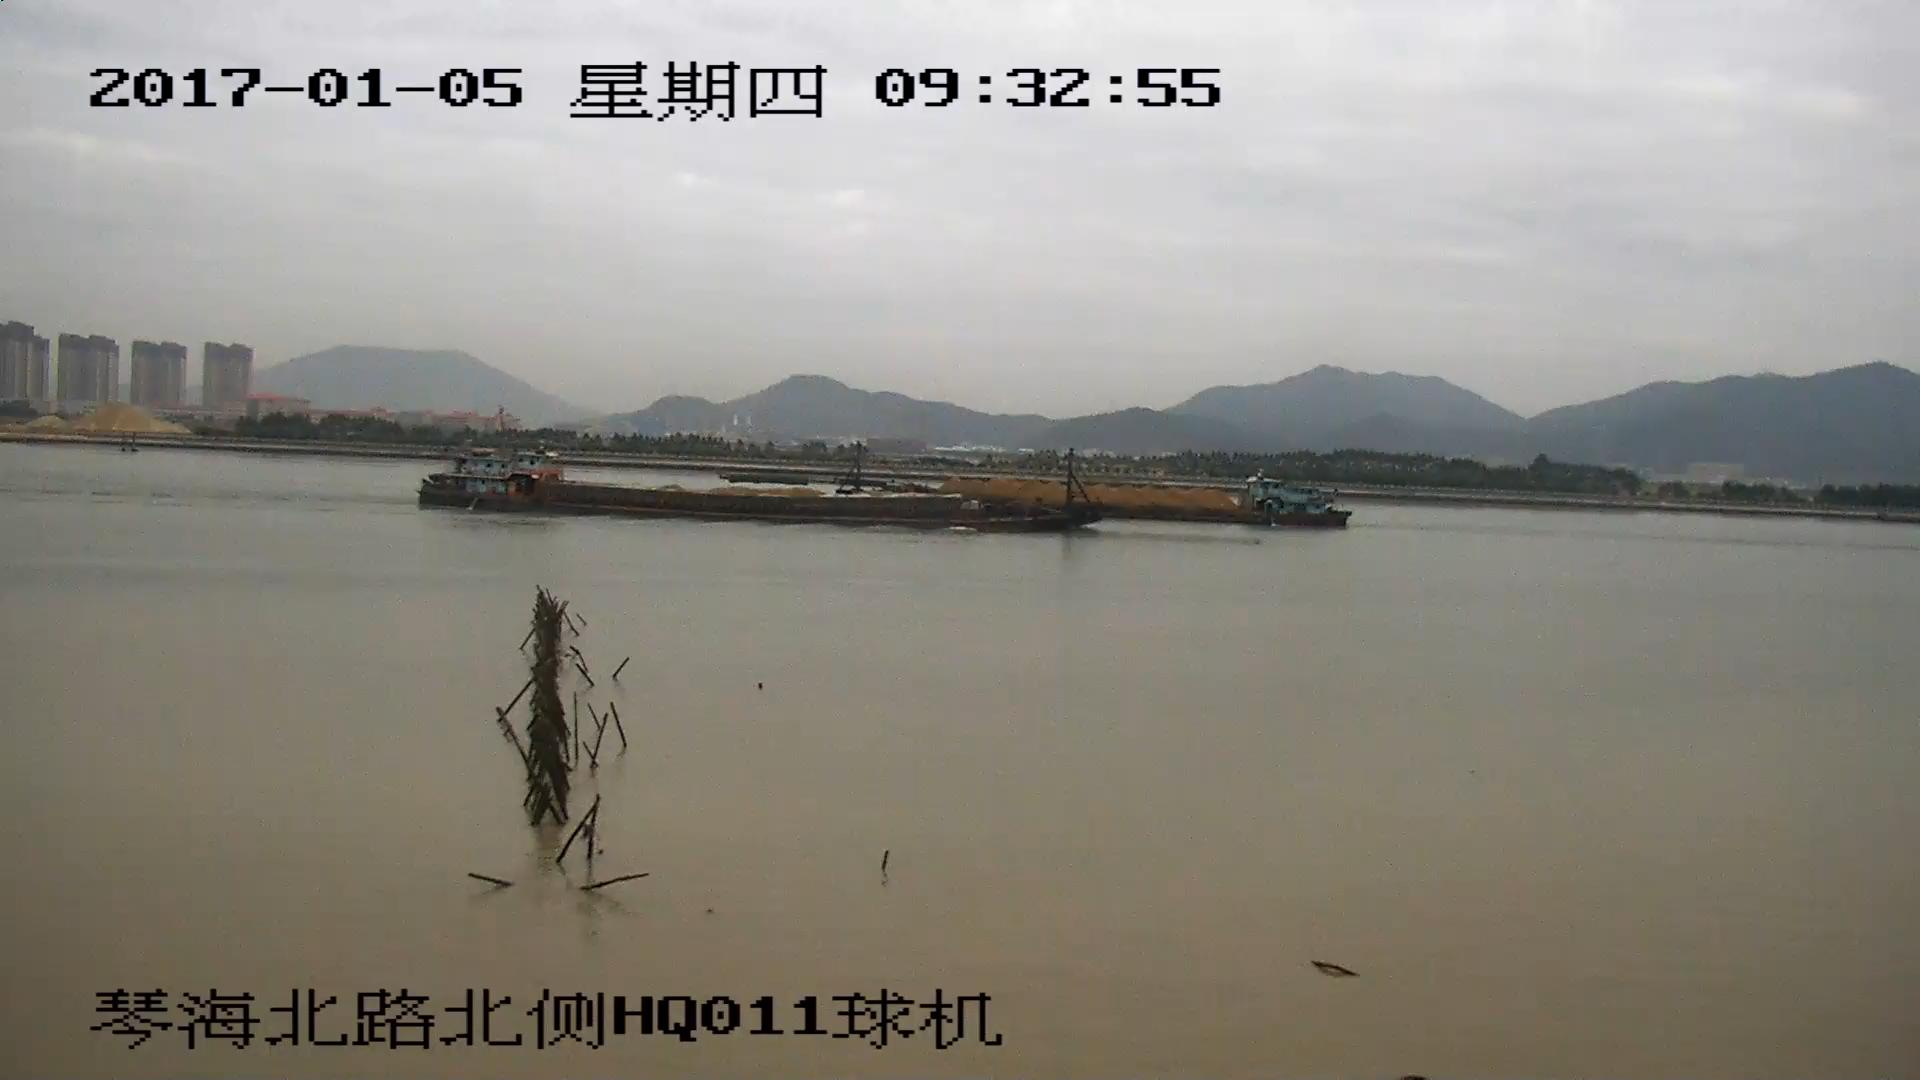ore carrier: (420, 452, 1096, 530), (1086, 482, 1348, 526)
